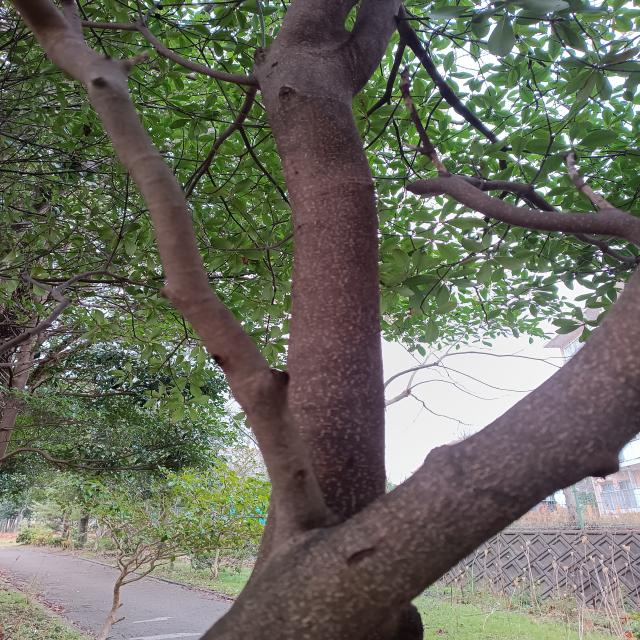Branch: (49, 35, 336, 531), (364, 272, 640, 639), (260, 42, 392, 519)
Twig: (408, 175, 640, 248), (398, 14, 507, 147), (80, 20, 258, 86), (7, 0, 78, 55), (451, 175, 555, 210), (366, 37, 406, 117), (565, 150, 613, 214), (569, 231, 640, 263), (62, 0, 85, 33)
